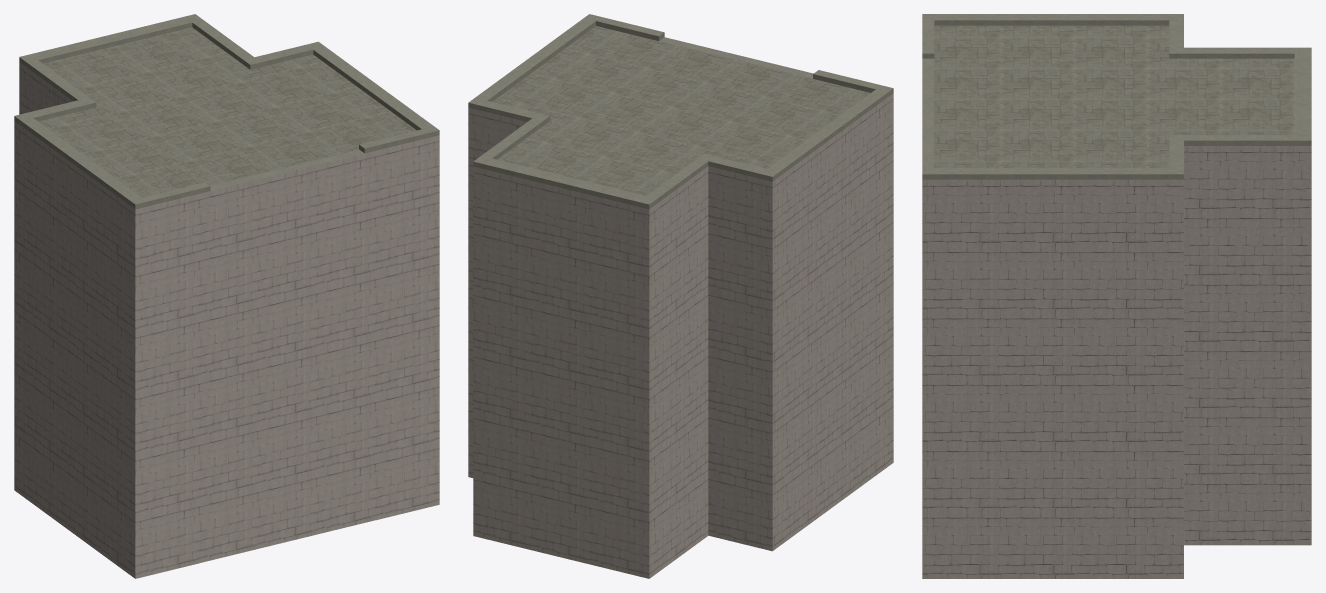
File: AD_Ground_A_01.fbx
3 renders of one model, left to right at view 1: azimuth 30°, elevation 25°; view 2: azimuth 150°, elevation 25°; view 3: azimuth 270°, elevation 25°, orthographic. The views are drawn at different scales.
Parts seen in each view (by area): view 1: AD_Ground_A_01; view 2: AD_Ground_A_01; view 3: AD_Ground_A_01.
Part boxes in pixels (x1,y1,x2,y2): AD_Ground_A_01: (14, 14, 439, 578); AD_Ground_A_01: (468, 14, 893, 578); AD_Ground_A_01: (922, 14, 1311, 578).
Bounding box in the file's own units: 5184 × 6094 × 5320.
3 materials, 3 textured.
